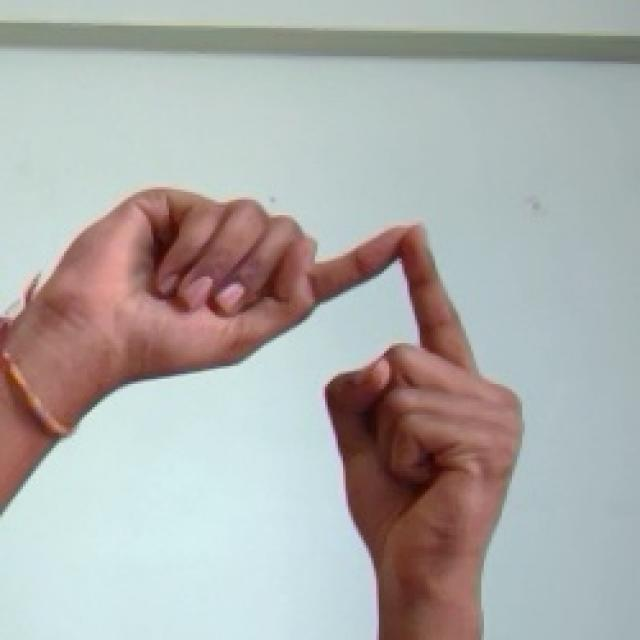Alphabet-E: (0, 189, 522, 639)
